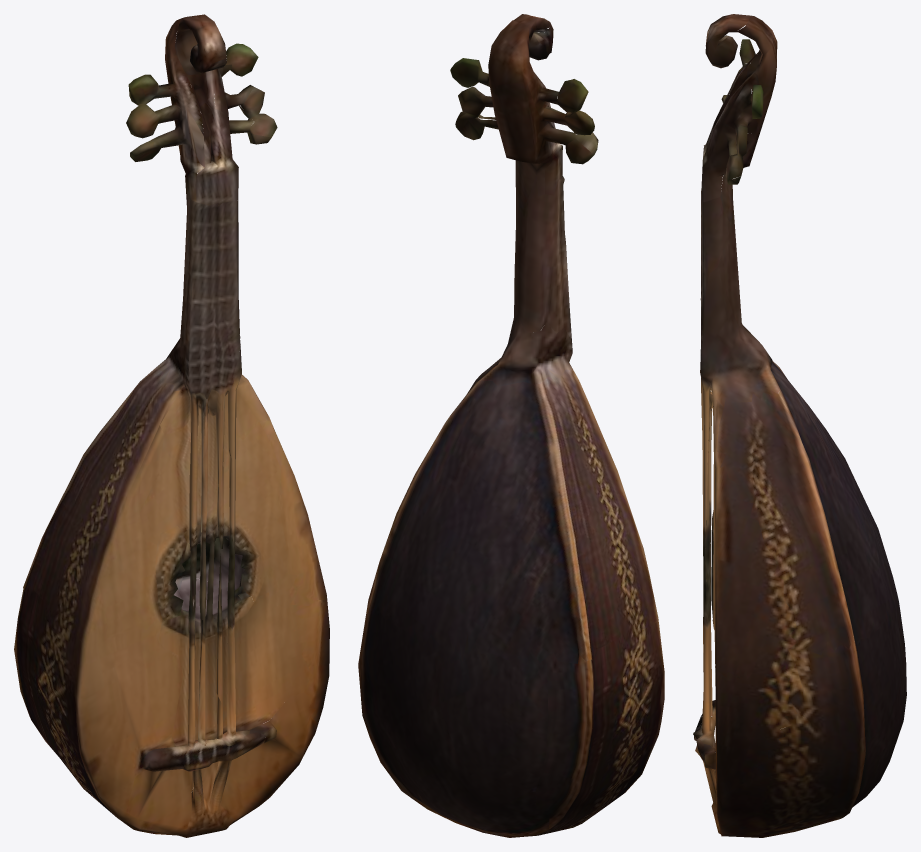
File: lute_amber.glb
The picture shows the model from 3 angles, left to right: view 1: azimuth 30°, elevation 25°; view 2: azimuth 150°, elevation 25°; view 3: azimuth 270°, elevation 25°; orthographic projection.
Parts seen in each view (by area): view 1: lute_amber; view 2: lute_amber; view 3: lute_amber.
Part boxes in pixels (x1,y1,x2,y2): lute_amber: [14, 14, 329, 837]; lute_amber: [358, 14, 664, 837]; lute_amber: [693, 14, 906, 837].
Bounding box in the file's own units: 0.2351 × 0.7214 × 0.1727.
Materials: 1 (1 with a texture image).
